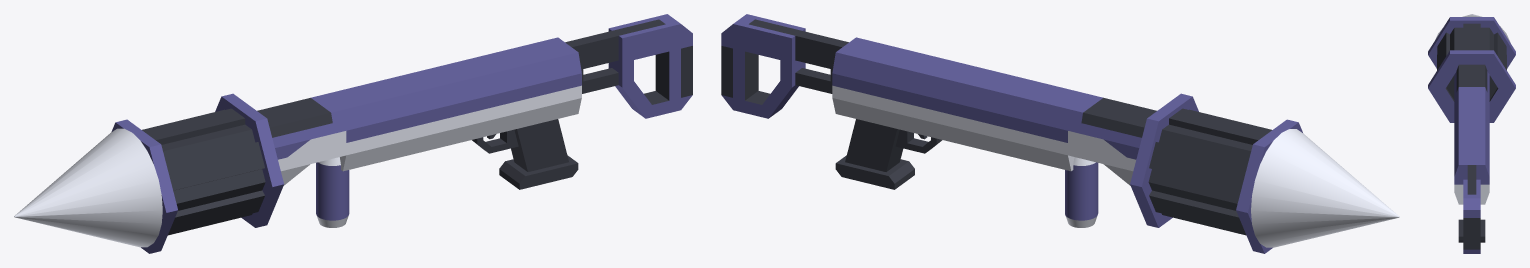
3 renders of one model, left to right at view 1: azimuth 30°, elevation 25°; view 2: azimuth 150°, elevation 25°; view 3: azimuth 270°, elevation 25°, orthographic. The views are drawn at different scales.
Parts seen in each view (by area): view 1: mergedBlocks(Clone); view 2: mergedBlocks(Clone); view 3: mergedBlocks(Clone).
Boxes of the visible parts, left/top/right/bottom form: mergedBlocks(Clone): left=14, top=14, right=692, bottom=253; mergedBlocks(Clone): left=721, top=14, right=1399, bottom=253; mergedBlocks(Clone): left=1428, top=14, right=1515, bottom=253.
Size of the model in its own units: 5.7 by 1.15 by 1.
